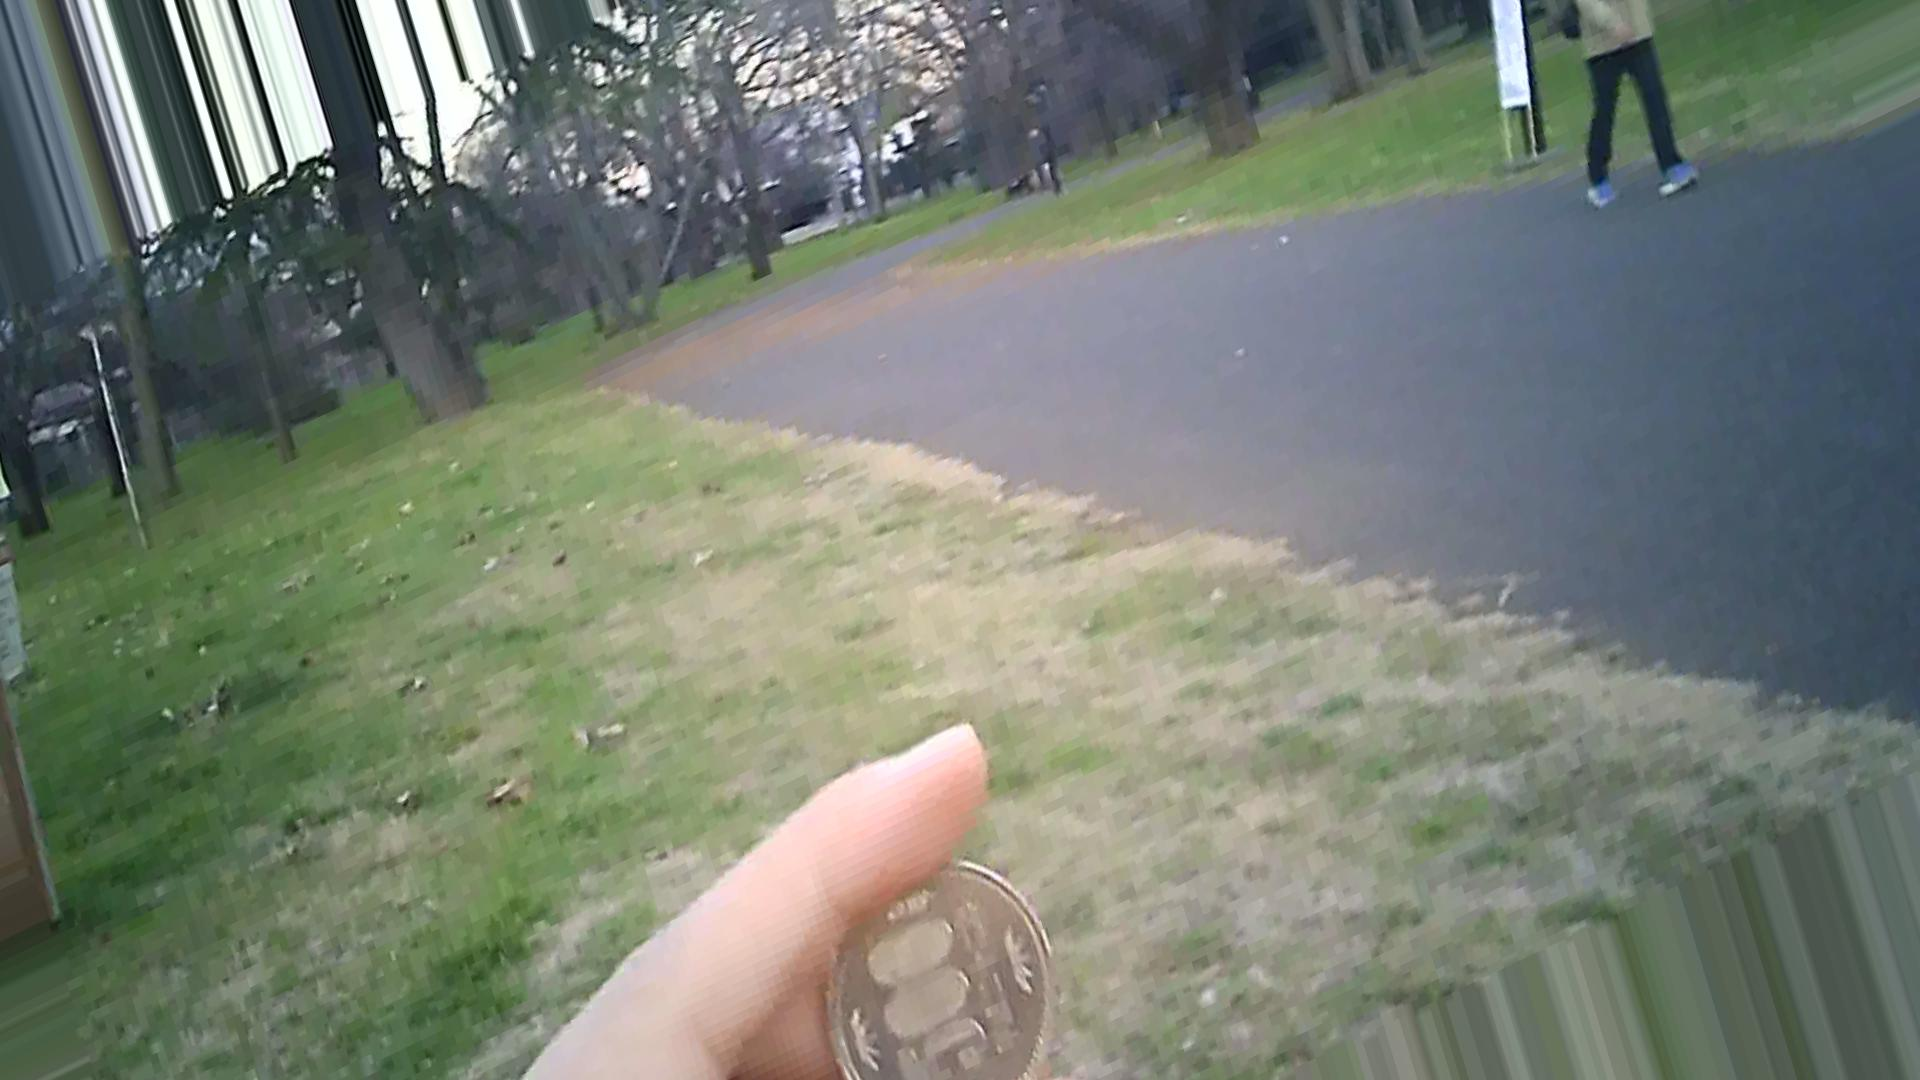500 Yen: (800, 851, 1058, 1079)
